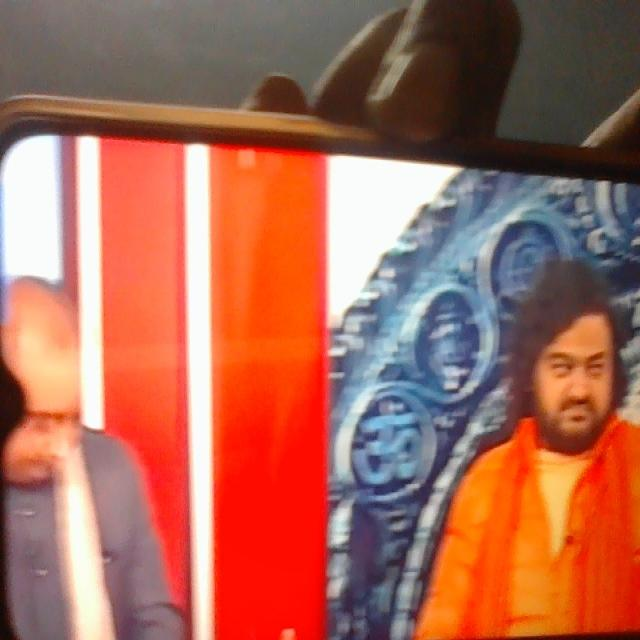fake: (509, 224, 630, 452)
